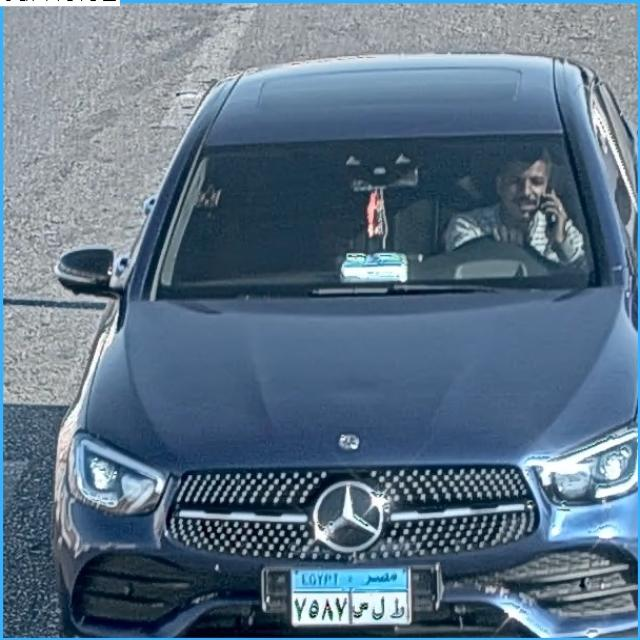windshield: (162, 141, 599, 286)
